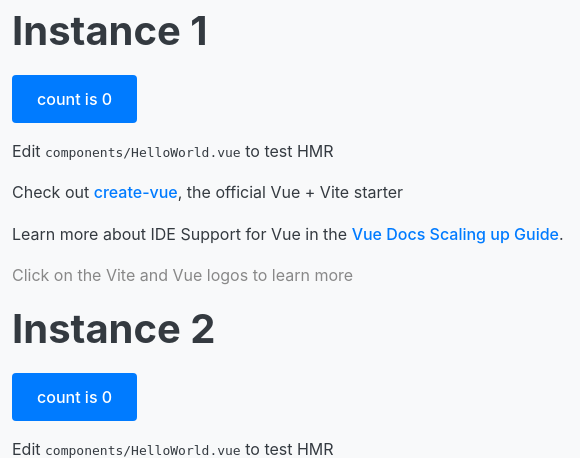
Scenario: HelloWorld › maintains independent count state across multiple instances
(page scrolled)
// Click first instance button
Click the button "count is 0" below "Instance 1". click: (75, 99)
box: x1=12 y1=75 x2=137 y2=123
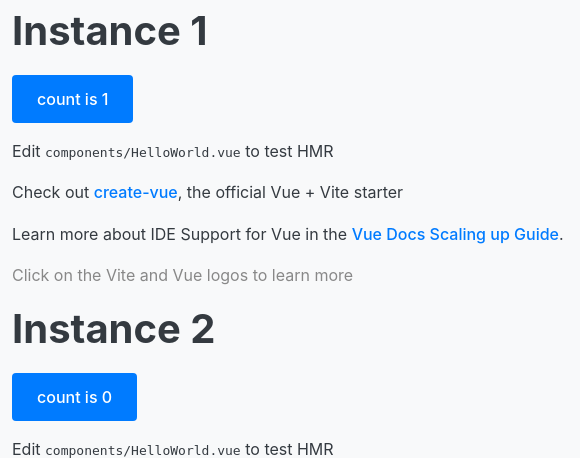
Click the button "count is 1". click: (73, 99)
box: x1=12 y1=75 x2=133 y2=123
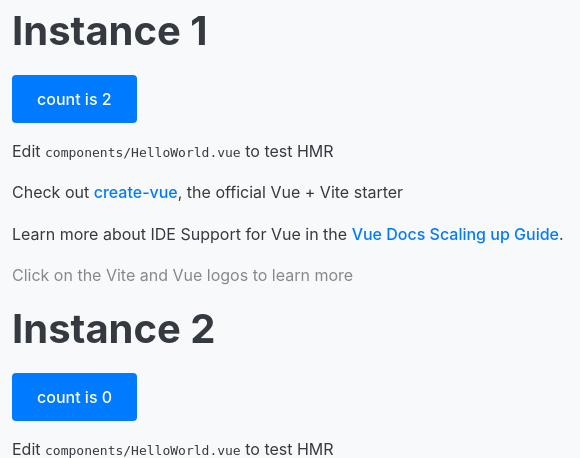
// Click second instance button once
Click the button "count is 0". click: (75, 397)
box: x1=12 y1=373 x2=137 y2=421
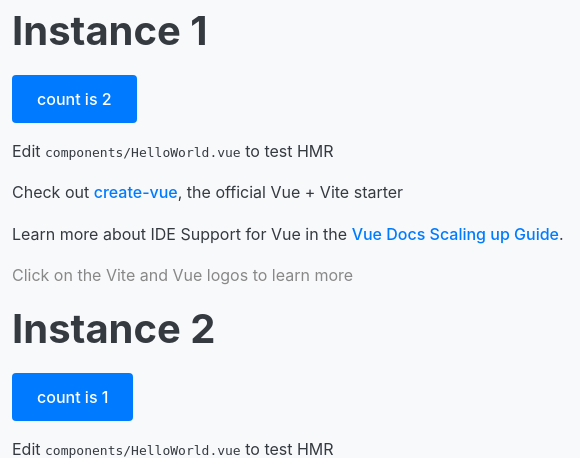
expect the button "count is 2" is shown: met, box x1=12 y1=75 x2=137 y2=123
expect the button "count is 1" is shown: met, box x1=12 y1=373 x2=133 y2=421
